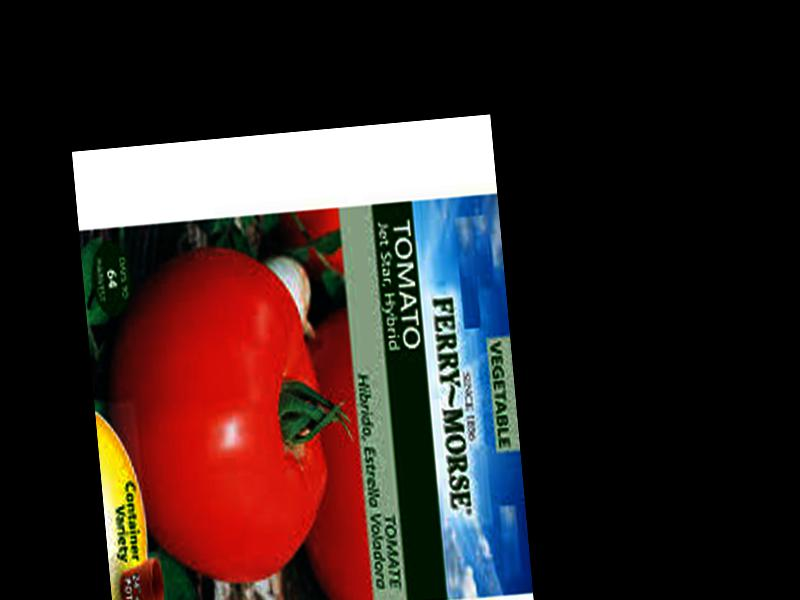Tomato: (95, 238, 335, 589)
